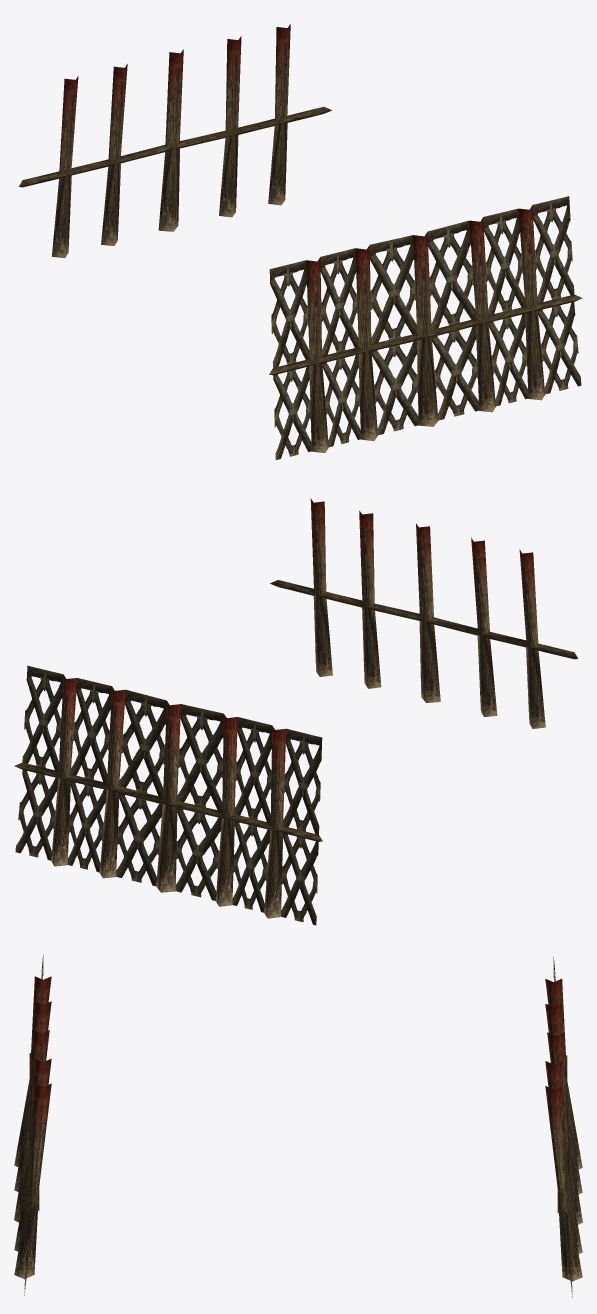
File: togui_door01.glb
3 renders of one model, top to bottom at view 1: azimuth 30°, elevation 25°; view 2: azimuth 150°, elevation 25°; view 3: azimuth 270°, elevation 25°, orthographic. The views are drawn at different scales.
Parts seen in each view (by area): view 1: res\dun\property\togui\togui_door01.bsr; view 2: res\dun\property\togui\togui_door01.bsr; view 3: res\dun\property\togui\togui_door01.bsr.
Part boxes in pixels (x1=…): res\dun\property\togui\togui_door01.bsr: x1=19, y1=24, x2=582, y2=459; res\dun\property\togui\togui_door01.bsr: x1=14, y1=498, x2=577, y2=925; res\dun\property\togui\togui_door01.bsr: x1=14, y1=954, x2=582, y2=1297.
Bounding box in the file's own units: 232 × 128 × 347.
2 materials, 2 textured.
